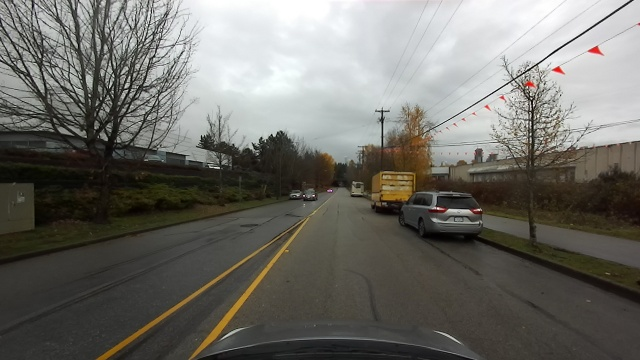car: (401, 191, 491, 241), (367, 172, 417, 214), (300, 186, 320, 202), (349, 179, 365, 199), (288, 188, 300, 200), (326, 188, 334, 194)
